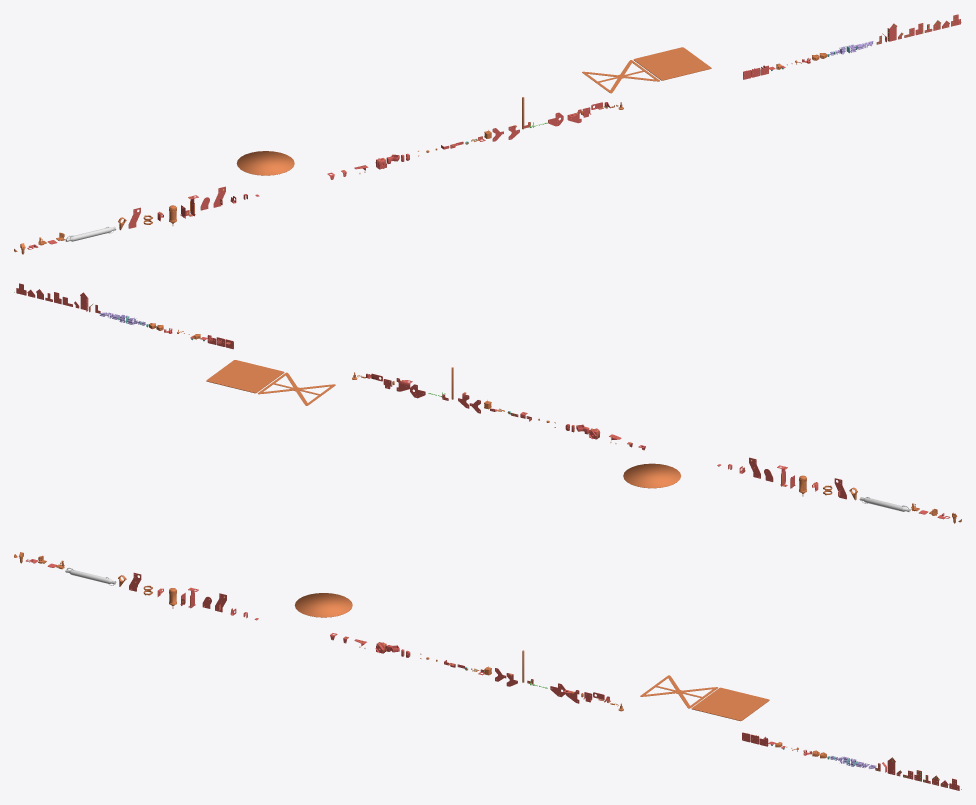
The model's file is Parts_0.fbx.
The picture shows the model from 3 angles, top to bottom: view 1: azimuth 30°, elevation 25°; view 2: azimuth 150°, elevation 25°; view 3: azimuth 330°, elevation 25°; orthographic projection.
Visible parts, largest first — view 1: Bed_LOD0, Delta_Bed_LOD0, Bed_Struct_LOD0; view 2: Bed_LOD0, Delta_Bed_LOD0, Bed_Struct_LOD0; view 3: Bed_LOD0, Delta_Bed_LOD0, Bed_Struct_LOD0.
Boxes of the visible parts, <box> form: Bed_LOD0: <box>633,47,711,80</box>; Delta_Bed_LOD0: <box>236,151,294,175</box>; Bed_Struct_LOD0: <box>582,60,659,93</box>; Bed_LOD0: <box>206,360,284,393</box>; Delta_Bed_LOD0: <box>623,463,680,488</box>; Bed_Struct_LOD0: <box>258,372,335,405</box>; Bed_LOD0: <box>691,687,769,721</box>; Delta_Bed_LOD0: <box>294,593,352,617</box>; Bed_Struct_LOD0: <box>640,675,717,708</box>.
Size of what is drawn, in the model's own units: 0.7543 by 0.0656 by 0.033.
